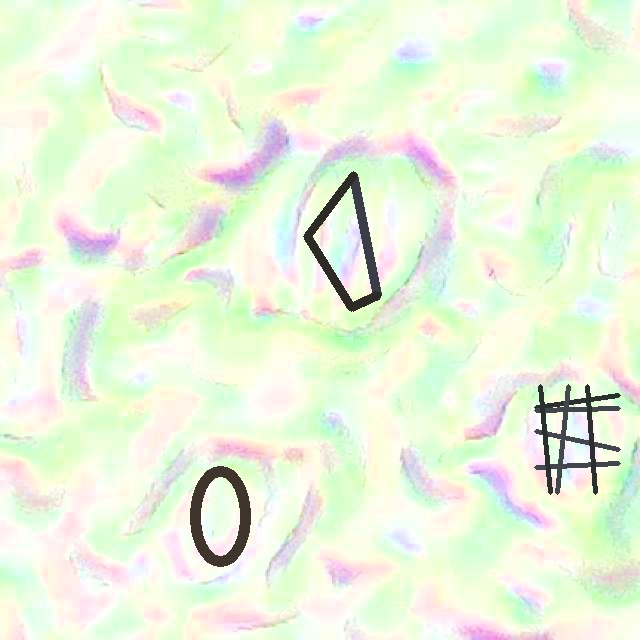close: (535, 385, 619, 494), (189, 465, 251, 566)
open: (303, 171, 381, 311)
